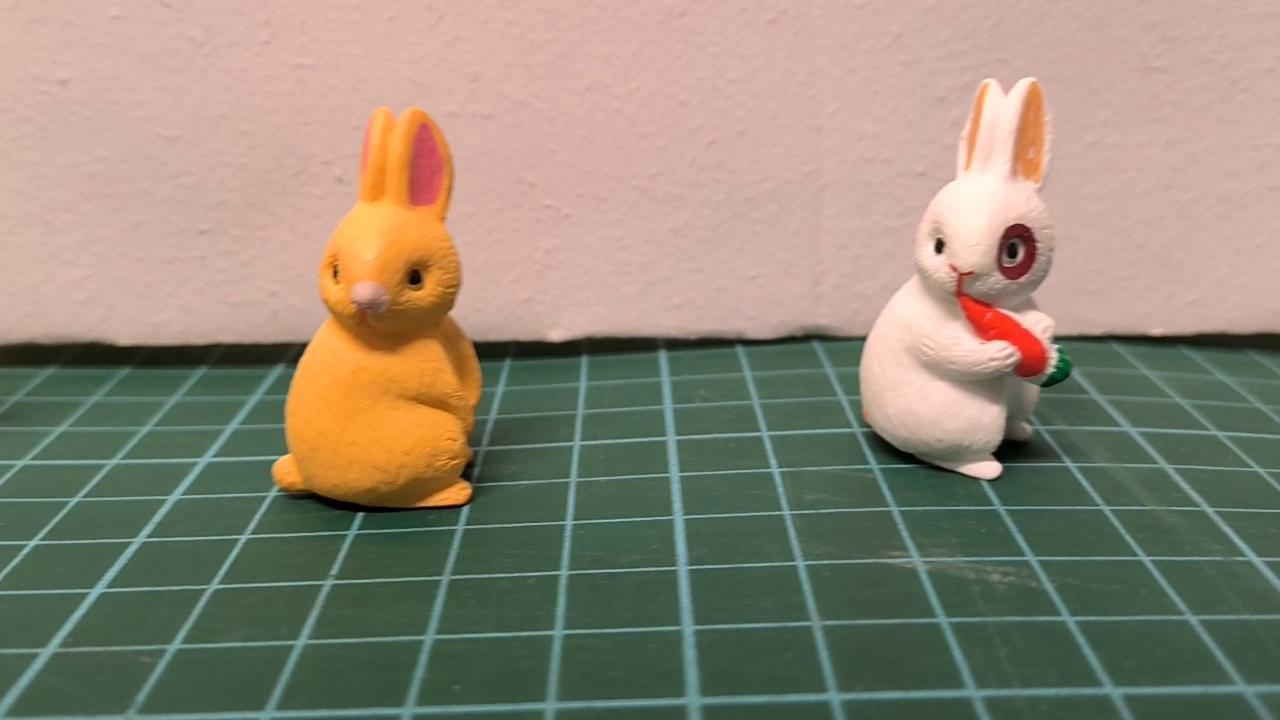pet: (273, 104, 483, 509), (858, 75, 1055, 481)
